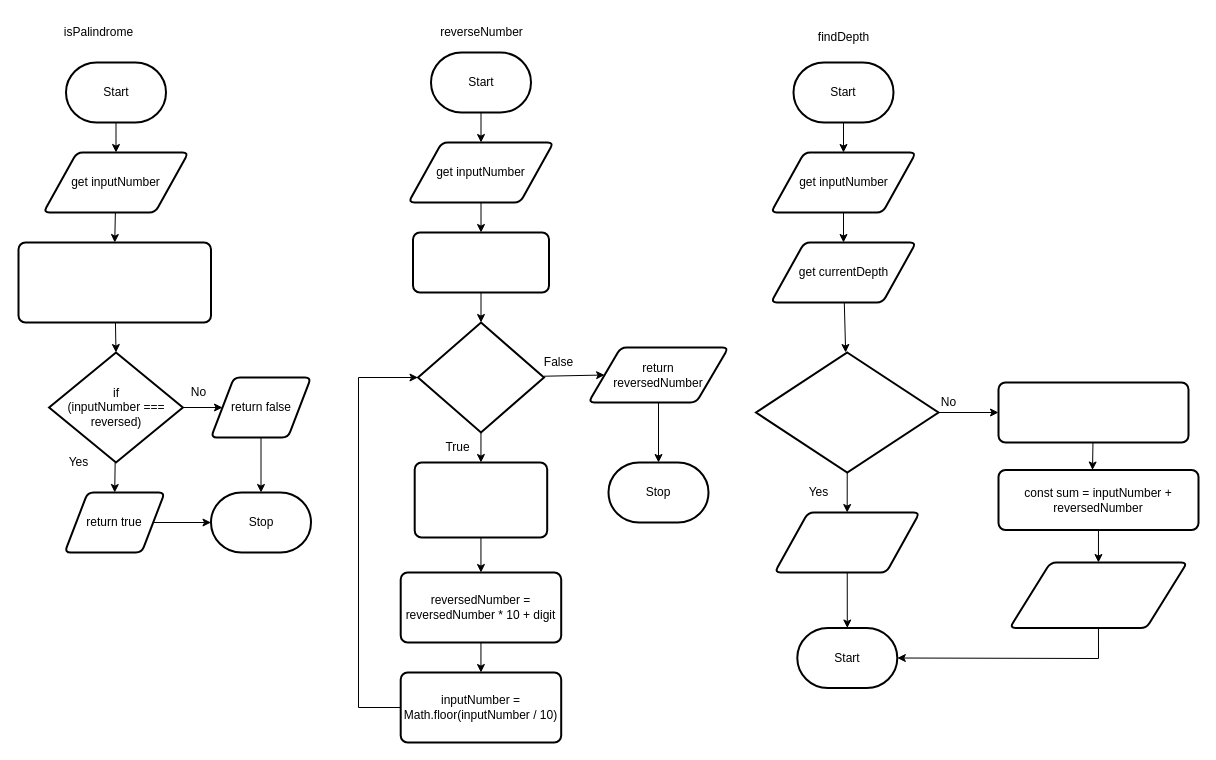
This 1216x760 diagram has some shape labels left out. Each missing label, with the centre of its shape:
"const digit = inputNumber % 10" belongs at point 480,499.
"const reversed = reverseNumber(inputNumber)" belongs at point 114,282.
"const reversedNumber = reverseNumber(inputNumber)" belongs at point 1093,412.
"if (isPalindrome(inputNumber))" belongs at point 846,412.
"return currentDepth" belongs at point 846,542.
"return findDepth(sum, currentDepth + 1)" belongs at point 1098,594.
"reversedNumber = 0" belongs at point 481,262.
"while (inputNumber > 0)" belongs at point 480,377.
